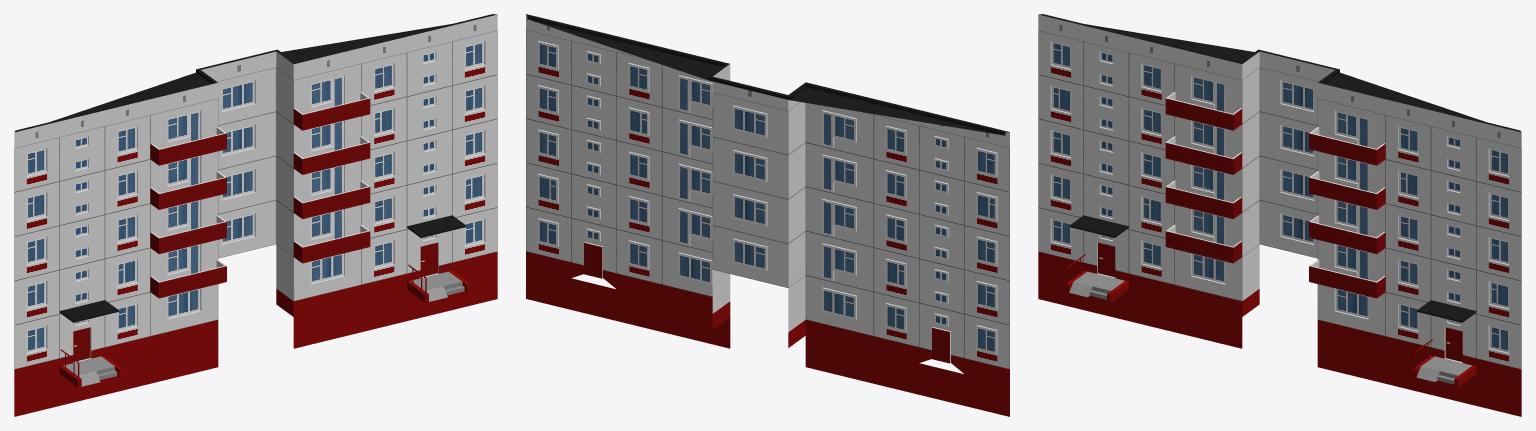
3 renders of one model, left to right at view 1: azimuth 30°, elevation 25°; view 2: azimuth 150°, elevation 25°; view 3: azimuth 330°, elevation 25°, orthographic.
Parts seen in each view (by area): view 1: Khrush; view 2: Khrush; view 3: Khrush.
Part boxes in pixels (left/top/right/bottom): Khrush: left=14, top=14, right=497, bottom=416; Khrush: left=526, top=14, right=1009, bottom=416; Khrush: left=1038, top=14, right=1521, bottom=416.
Size of the model in its own units: 3200 by 1800 by 430.
